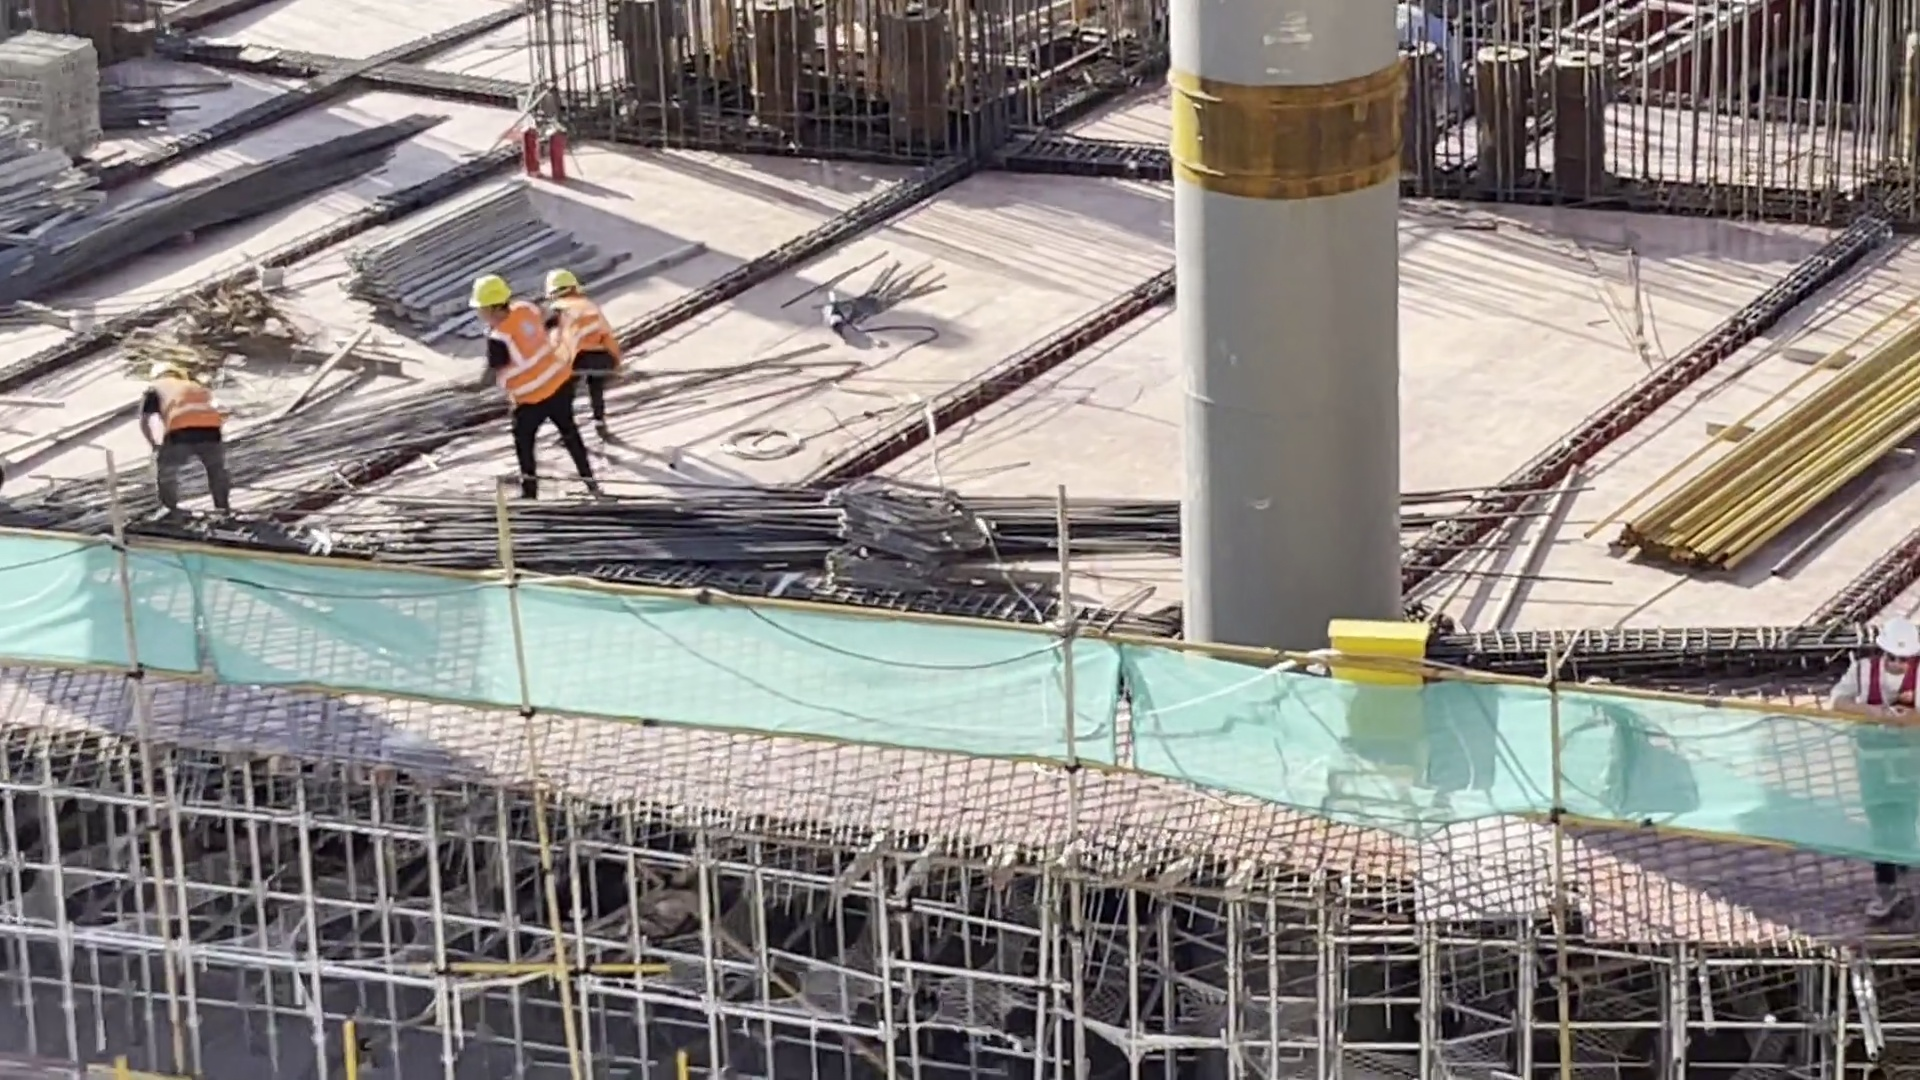ebox: (1333, 611, 1440, 779)
helmet: (463, 268, 516, 312), (541, 255, 578, 294), (149, 356, 176, 387)
person: (95, 328, 248, 534), (449, 261, 569, 495), (1848, 578, 1920, 942), (522, 264, 651, 439)
vest: (476, 322, 581, 402), (545, 297, 620, 367), (157, 379, 219, 438)
wood: (356, 172, 560, 330)
